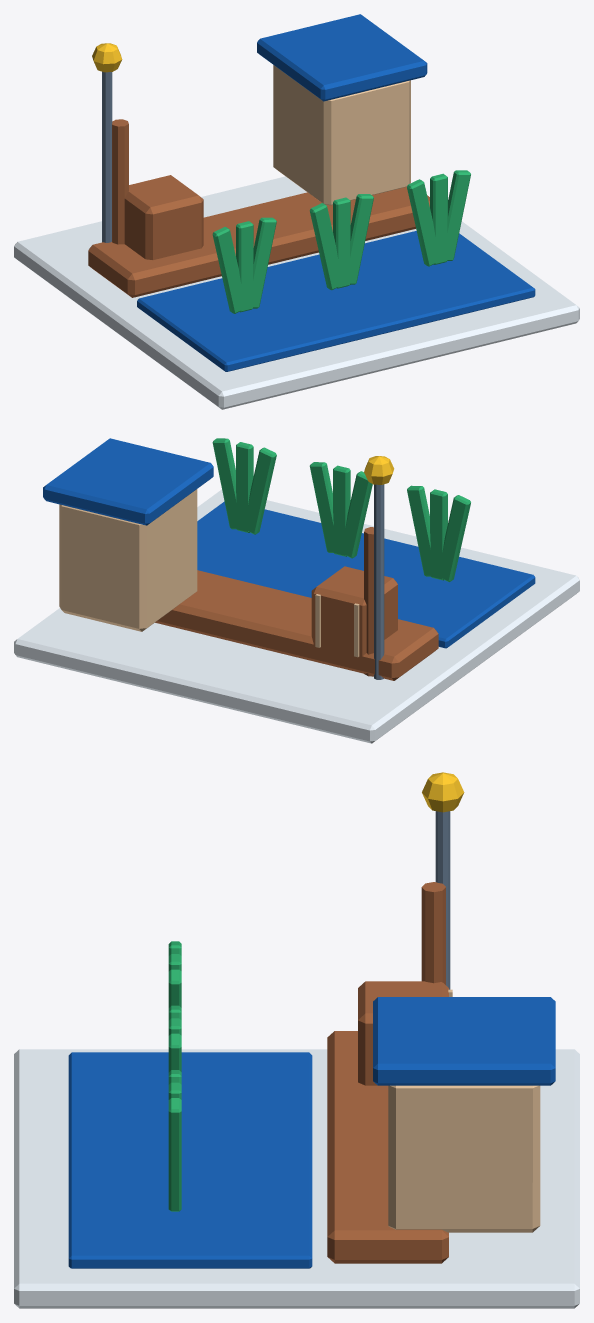
Rendered from Building_KelpFarm_2x2_v001.fbx.
3 views of the same model, one above another, from view 1: azimuth 30°, elevation 25°; view 2: azimuth 150°, elevation 25°; view 3: azimuth 270°, elevation 25° (orthographic). The views are drawn at different scales.
Parts seen in each view (by area): view 1: Foundation, WaterBasin, Store, Pier, StoreRoof, Crate, PierPost.001, SignalMast, Kelp_Anim.008, Kelp_Anim.005, Kelp_Anim.002, Kelp_Anim.006 (+6 smaller); view 2: Foundation, WaterBasin, Store, Pier, StoreRoof, Crate, SignalMast, Kelp_Anim.008, Kelp_Anim.002, Kelp_Anim.005, Kelp_Anim, Kelp_Anim.003 (+6 smaller); view 3: Foundation, WaterBasin, Store, StoreRoof, Pier, Crate, PierPost.001, SignalMast, Kelp_Anim, SignalLamp.
Part boxes in pixels (x1,y1,x2,y2): Foundation: [14, 176, 579, 409]; WaterBasin: [137, 231, 535, 371]; Store: [273, 65, 410, 205]; Pier: [88, 187, 429, 297]; StoreRoof: [257, 14, 427, 101]; Crate: [124, 175, 203, 259]; PierPost.001: [112, 119, 128, 244]; SignalMast: [102, 71, 112, 242]; Kelp_Anim.008: [212, 227, 245, 313]; Kelp_Anim.005: [309, 203, 342, 290]; Kelp_Anim.002: [407, 179, 439, 266]; Kelp_Anim.006: [248, 217, 276, 308]; Foundation: [14, 489, 579, 743]; WaterBasin: [197, 501, 535, 648]; Store: [59, 489, 197, 631]; Pier: [155, 570, 438, 680]; StoreRoof: [43, 438, 213, 525]; Crate: [311, 566, 397, 656]; SignalMast: [374, 484, 384, 679]; Kelp_Anim.008: [437, 495, 470, 581]; Kelp_Anim.002: [243, 447, 276, 534]; Kelp_Anim.005: [341, 471, 372, 558]; Kelp_Anim: [212, 438, 241, 529]; Kelp_Anim.003: [309, 462, 338, 552]; Foundation: [14, 1049, 579, 1308]; WaterBasin: [68, 1052, 312, 1268]; Store: [388, 1085, 540, 1232]; StoreRoof: [373, 997, 555, 1085]; Pier: [327, 1031, 448, 1263]; Crate: [358, 981, 448, 1085]; PierPost.001: [421, 882, 445, 984]; SignalMast: [435, 811, 450, 989]; Kelp_Anim: [168, 1098, 181, 1211]; SignalLamp: [422, 772, 464, 812].
Size of the model in its own units: 186 by 119 by 186.
